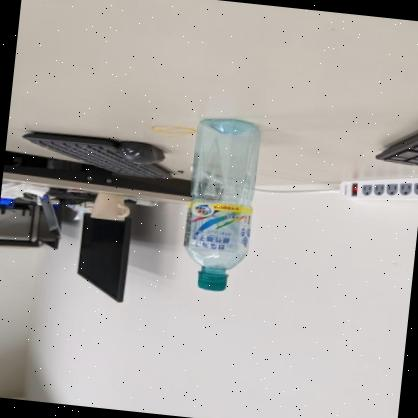bottle: (172, 111, 270, 302)
cap: (190, 268, 233, 298)
